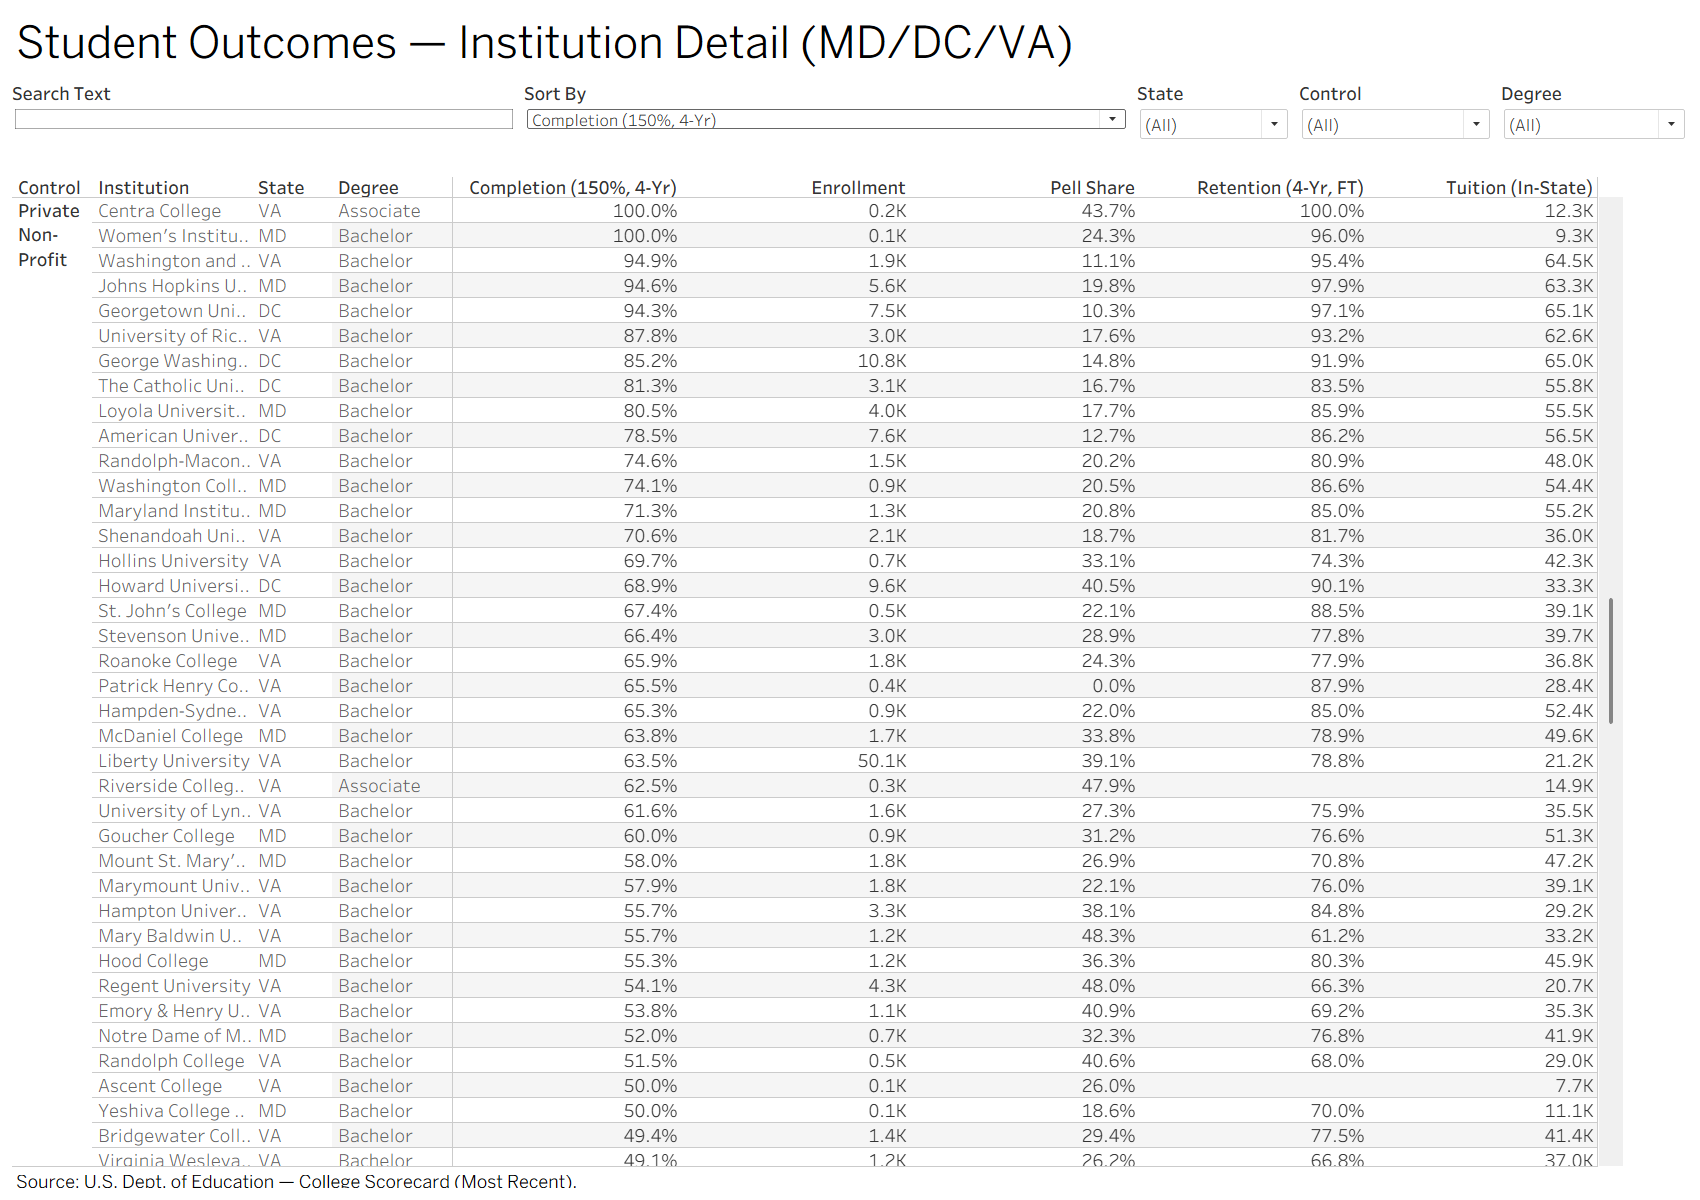

The dashboard page shown, as its layout file describes it:
{"tool":"tableau","page":{"name":"Detail","canvas":[1000,1000],"units":"permille","ordinal":0},"visuals":[{"type":"text","box":[4.7,6.7,990.6,56.6]},{"type":"parameter","param":"[Parameters].[Parameter 1]","box":[4.7,63.3,301.1,80.6]},{"type":"parameter","param":"[Parameters].[Parameter 2]","box":[305.8,63.3,360.5,80.6]},{"type":"filter","title":"Table - Institutions (Text)","param":"[federated.1txu27m1cq8obf1bedxkq0pbirkx].[none:Calculation_751538235007143946:nk","box":[666.2,63.3,95.4,80.6]},{"type":"filter","title":"Table - Institutions (Text)","param":"[federated.1txu27m1cq8obf1bedxkq0pbirkx].[none:CONTROL:nk]","box":[761.6,63.3,118.8,80.6]},{"type":"filter","title":"Table - Institutions (Text)","param":"[federated.1txu27m1cq8obf1bedxkq0pbirkx].[none:Calculation_751538235007234059:nk","box":[880.4,63.3,114.9,80.6]},{"type":"worksheet","title":"Table - Institutions (Text)","mark":"Text","rows":["CONTROL","Calculation_751538235007016969","Calculation_751538235007143946","Calculation_751538235007234059"],"box":[4.7,144,990.6,831.9]},{"type":"text","box":[4.7,975.9,990.6,17.4]}]}

Visuals, with their boxes on the dashboard's canvas, which has no fixed pixel size, in thousandths of its width and height (x1, y1, x2, y2). These are canvas units, not pixel positions in the 1700x1200 screenshot, which may show the page scaled, cropped or inside an application window:
text: 5:7:995:63
parameter: 5:63:306:144
parameter: 306:63:666:144
"Table - Institutions (Text)" filter: 666:63:762:144
"Table - Institutions (Text)" filter: 762:63:880:144
"Table - Institutions (Text)" filter: 880:63:995:144
"Table - Institutions (Text)" worksheet (Text marks): 5:144:995:976
text: 5:976:995:993
